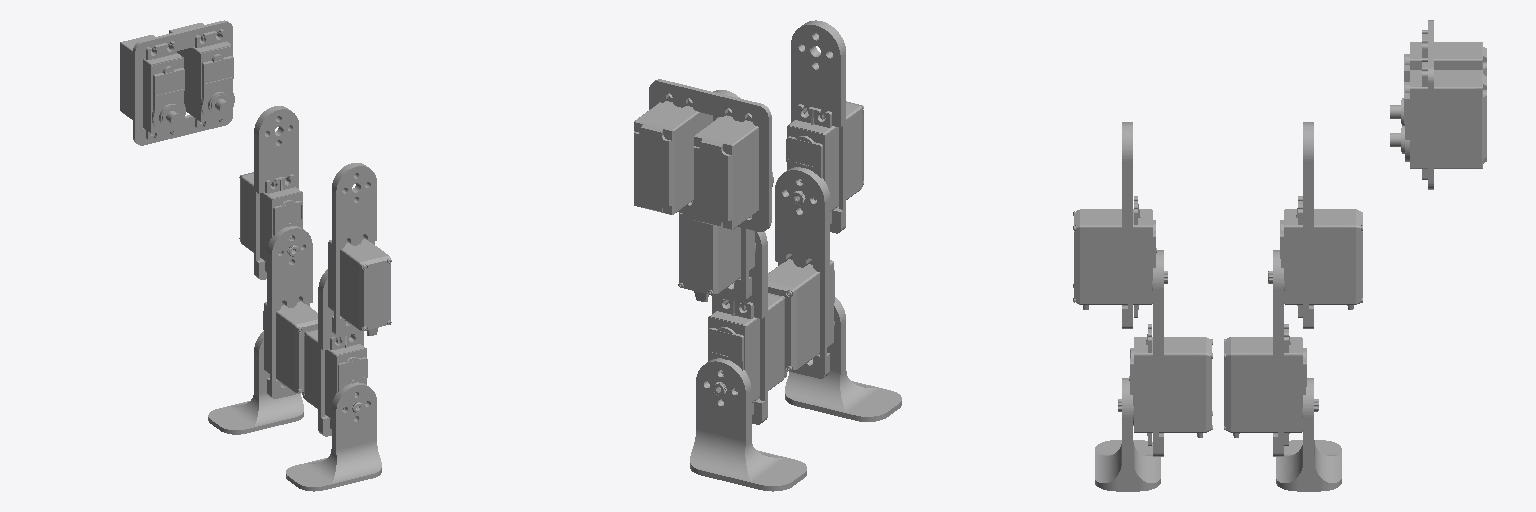
URDF robot description (HUMANOIDTANAKA3):
<?xml version="1.0" ?>
<!-- =================================================================================== -->
<!-- |    This document was autogenerated by xacro from c:\Users\user\Desktop\humanoidTANAKA\model\HUMANOIDTANAKA3.xacro | -->
<!-- |    EDITING THIS FILE BY HAND IS NOT RECOMMENDED                                 | -->
<!-- =================================================================================== -->
<robot name="HUMANOIDTANAKA3">
  <material name="silver">
    <color rgba="0.700 0.700 0.700 1.000"/>
  </material>
  <link name="base_link">
    <inertial>
      <origin rpy="0 0 0" xyz="0.0 0.0 0.0"/>
      <mass value="0.5"/>
      <inertia ixx="0.01" ixy="0.0" ixz="0.0" iyy="0.01" iyz="0.0" izz="0.01"/>
    </inertial>
    <visual>
      <origin rpy="0 0 0" xyz="0 0 0"/>
      <geometry>
        <mesh filename="meshes/base_link.stl" scale="0.001 0.001 0.001"/>
      </geometry>
      <material name="silver"/>
    </visual>
    <collision>
      <origin rpy="0 0 0" xyz="0 0 0"/>
      <geometry>
        <mesh filename="meshes/base_link.stl" scale="0.001 0.001 0.001"/>
      </geometry>
    </collision>
  </link>
  <link name="Leg12_v1_1">
    <inertial>
      <origin rpy="0 0 0" xyz="0.009671 0.0387 0.128257"/>
      <mass value="0.5"/>
      <inertia ixx="0.01" ixy="0.0" ixz="0.0" iyy="0.01" iyz="0.0" izz="0.01"/>
    </inertial>
    <visual>
      <origin rpy="0 0 0" xyz="0.009671 0.0387 0.128257"/>
      <geometry>
        <mesh filename="meshes/Leg12_v1_1.stl" scale="0.001 0.001 0.001"/>
      </geometry>
      <material name="silver"/>
    </visual>
    <collision>
      <origin rpy="0 0 0" xyz="0.009671 0.0387 0.128257"/>
      <geometry>
        <mesh filename="meshes/Leg12_v1_1.stl" scale="0.001 0.001 0.001"/>
      </geometry>
    </collision>
  </link>
  <link name="Leg12_v1__1__1">
    <inertial>
      <origin rpy="0 0 0" xyz="0.009671 -0.0387 0.128257"/>
      <mass value="0.5"/>
      <inertia ixx="0.01" ixy="0.0" ixz="0.0" iyy="0.01" iyz="0.0" izz="0.01"/>
    </inertial>
    <visual>
      <origin rpy="0 0 0" xyz="0.009671 -0.0387 0.128257"/>
      <geometry>
        <mesh filename="meshes/Leg12_v1__1__1.stl" scale="0.001 0.001 0.001"/>
      </geometry>
      <material name="silver"/>
    </visual>
    <collision>
      <origin rpy="0 0 0" xyz="0.009671 -0.0387 0.128257"/>
      <geometry>
        <mesh filename="meshes/Leg12_v1__1__1.stl" scale="0.001 0.001 0.001"/>
      </geometry>
    </collision>
  </link>
  <link name="YAMAMOdogA.step_1">
    <inertial>
      <origin rpy="0 0 0" xyz="-3.6057498422475964e-07 -0.007085814129260223 -0.04903434210373424"/>
      <mass value="0.2760109571215271"/>
      <inertia ixx="0.000133" ixy="-0.0" ixz="-0.0" iyy="0.000115" iyz="-6e-06" izz="3.7e-05"/>
    </inertial>
    <visual>
      <origin rpy="0 0 0" xyz="0.009671 0.0387 -2.9e-05"/>
      <geometry>
        <mesh filename="meshes/YAMAMOdogA.step_1.stl" scale="0.001 0.001 0.001"/>
      </geometry>
      <material name="silver"/>
    </visual>
    <collision>
      <origin rpy="0 0 0" xyz="0.009671 0.0387 -2.9e-05"/>
      <geometry>
        <mesh filename="meshes/YAMAMOdogA.step_1.stl" scale="0.001 0.001 0.001"/>
      </geometry>
    </collision>
  </link>
  <link name="YAMAMOdogA.stepA_2">
    <inertial>
      <origin rpy="0 0 0" xyz="-3.6017147062201993e-07 0.007085814129260196 -0.04903406321225638"/>
      <mass value="0.2760109571215268"/>
      <inertia ixx="0.000133" ixy="0.0" ixz="-0.0" iyy="0.000115" iyz="6e-06" izz="3.7e-05"/>
    </inertial>
    <visual>
      <origin rpy="0 0 0" xyz="0.009671 0.0297 0.064114"/>
      <geometry>
        <mesh filename="meshes/YAMAMOdogA.stepA_2.stl" scale="0.001 0.001 0.001"/>
      </geometry>
      <material name="silver"/>
    </visual>
    <collision>
      <origin rpy="0 0 0" xyz="0.009671 0.0297 0.064114"/>
      <geometry>
        <mesh filename="meshes/YAMAMOdogA.stepA_2.stl" scale="0.001 0.001 0.001"/>
      </geometry>
    </collision>
  </link>
  <link name="YAMAMOdogA.step_2">
    <inertial>
      <origin rpy="0 0 0" xyz="-3.6012425457497554e-07 -0.007085814129260199 -0.049034063212256396"/>
      <mass value="0.2760109571215271"/>
      <inertia ixx="0.000133" ixy="-0.0" ixz="-0.0" iyy="0.000115" iyz="-6e-06" izz="3.7e-05"/>
    </inertial>
    <visual>
      <origin rpy="0 0 0" xyz="0.009671 -0.0297 0.064114"/>
      <geometry>
        <mesh filename="meshes/YAMAMOdogA.step_2.stl" scale="0.001 0.001 0.001"/>
      </geometry>
      <material name="silver"/>
    </visual>
    <collision>
      <origin rpy="0 0 0" xyz="0.009671 -0.0297 0.064114"/>
      <geometry>
        <mesh filename="meshes/YAMAMOdogA.step_2.stl" scale="0.001 0.001 0.001"/>
      </geometry>
    </collision>
  </link>
  <link name="YAMAMOdogA.stepA_1">
    <inertial>
      <origin rpy="0 0 0" xyz="-3.6062220026659986e-07 0.00708581412926023 -0.049034342103734224"/>
      <mass value="0.2760109571215268"/>
      <inertia ixx="0.000133" ixy="0.0" ixz="-0.0" iyy="0.000115" iyz="6e-06" izz="3.7e-05"/>
    </inertial>
    <visual>
      <origin rpy="0 0 0" xyz="0.009671 -0.0387 -2.9e-05"/>
      <geometry>
        <mesh filename="meshes/YAMAMOdogA.stepA_1.stl" scale="0.001 0.001 0.001"/>
      </geometry>
      <material name="silver"/>
    </visual>
    <collision>
      <origin rpy="0 0 0" xyz="0.009671 -0.0387 -2.9e-05"/>
      <geometry>
        <mesh filename="meshes/YAMAMOdogA.stepA_1.stl" scale="0.001 0.001 0.001"/>
      </geometry>
    </collision>
  </link>
  <joint name="joint_1" type="revolute">
    <origin rpy="0 0 0" xyz="0.0 -0.009 -0.064143"/>
    <parent link="YAMAMOdogA.stepA_2"/>
    <child link="Leg12_v1_1"/>
    <axis xyz="0.0 -1.0 0.0"/>
    <limit effort="100" lower="-1.570796" upper="1.570796" velocity="100"/>
  </joint>
  <joint name="joint_2" type="revolute">
    <origin rpy="0 0 0" xyz="0.0 0.009 -0.064143"/>
    <parent link="YAMAMOdogA.step_2"/>
    <child link="Leg12_v1__1__1"/>
    <axis xyz="0.0 1.0 0.0"/>
    <limit effort="100" lower="-1.570796" upper="1.570796" velocity="100"/>
  </joint>
  <joint name="joint_3" type="revolute">
    <origin rpy="0 0 0" xyz="-0.009671 -0.0387 2.9e-05"/>
    <parent link="base_link"/>
    <child link="YAMAMOdogA.step_1"/>
    <axis xyz="0.0 -1.0 0.0"/>
    <limit effort="100" lower="-1.570796" upper="1.570796" velocity="100"/>
  </joint>
  <joint name="joint_4" type="revolute">
    <origin rpy="0 0 0" xyz="0.0 0.009 -0.064143"/>
    <parent link="YAMAMOdogA.step_1"/>
    <child link="YAMAMOdogA.stepA_2"/>
    <axis xyz="0.0 1.0 0.0"/>
    <limit effort="100" lower="-1.570796" upper="1.570796" velocity="100"/>
  </joint>
  <joint name="joint_5" type="revolute">
    <origin rpy="0 0 0" xyz="0.0 -0.009 -0.064143"/>
    <parent link="YAMAMOdogA.stepA_1"/>
    <child link="YAMAMOdogA.step_2"/>
    <axis xyz="0.0 -1.0 0.0"/>
    <limit effort="100" lower="-1.570796" upper="1.570796" velocity="100"/>
  </joint>
  <joint name="joint_6" type="revolute">
    <origin rpy="0 0 0" xyz="-0.009671 0.0387 2.9e-05"/>
    <parent link="base_link"/>
    <child link="YAMAMOdogA.stepA_1"/>
    <axis xyz="0.0 1.0 0.0"/>
    <limit effort="100" lower="-1.570796" upper="1.570796" velocity="100"/>
  </joint>
</robot>

--- Render facts (derived) ---
The picture shows the robot from 3 angles, left to right: view 1: azimuth 30°, elevation 25°; view 2: azimuth 150°, elevation 25°; view 3: azimuth 270°, elevation 25°; orthographic projection.
Model HUMANOIDTANAKA3 with 7 links and 6 joints (6 revolute), rooted at base_link, posed every joint at zero.
Links seen in each view (by area): view 1: base_link, YAMAMOdogA.step_1, YAMAMOdogA.stepA_1, YAMAMOdogA.step_2, Leg12_v1_1, YAMAMOdogA.stepA_2, Leg12_v1__1__1; view 2: base_link, YAMAMOdogA.step_1, YAMAMOdogA.stepA_2, Leg12_v1__1__1, YAMAMOdogA.step_2, YAMAMOdogA.stepA_1, Leg12_v1_1; view 3: base_link, YAMAMOdogA.stepA_1, YAMAMOdogA.step_1, YAMAMOdogA.step_2, YAMAMOdogA.stepA_2, Leg12_v1_1, Leg12_v1__1__1.
Boxes of the visible links, box(x1,y1,x2,y2) form: base_link: box(120, 20, 234, 145); YAMAMOdogA.step_1: box(328, 163, 391, 336); YAMAMOdogA.stepA_1: box(239, 106, 302, 279); YAMAMOdogA.step_2: box(263, 226, 317, 398); Leg12_v1_1: box(286, 382, 381, 491); YAMAMOdogA.stepA_2: box(304, 269, 367, 436); Leg12_v1__1__1: box(208, 331, 303, 434); base_link: box(634, 79, 773, 231); YAMAMOdogA.step_1: box(786, 20, 863, 233); YAMAMOdogA.stepA_2: box(768, 167, 834, 378); Leg12_v1__1__1: box(690, 358, 806, 491); YAMAMOdogA.step_2: box(708, 231, 784, 424); YAMAMOdogA.stepA_1: box(678, 90, 755, 302); Leg12_v1_1: box(785, 297, 901, 421); base_link: box(1390, 20, 1486, 189); YAMAMOdogA.stepA_1: box(1268, 122, 1362, 328); YAMAMOdogA.step_1: box(1073, 122, 1167, 328); YAMAMOdogA.step_2: box(1224, 250, 1318, 456); YAMAMOdogA.stepA_2: box(1118, 250, 1212, 456); Leg12_v1_1: box(1095, 378, 1160, 491); Leg12_v1__1__1: box(1276, 378, 1341, 491).
Size in the robot's own frame: 0.0678 by 0.1879 by 0.2066 metres.
Meshes: 7 distinct files referenced, 7 mesh visuals loaded (7 binary STL).
